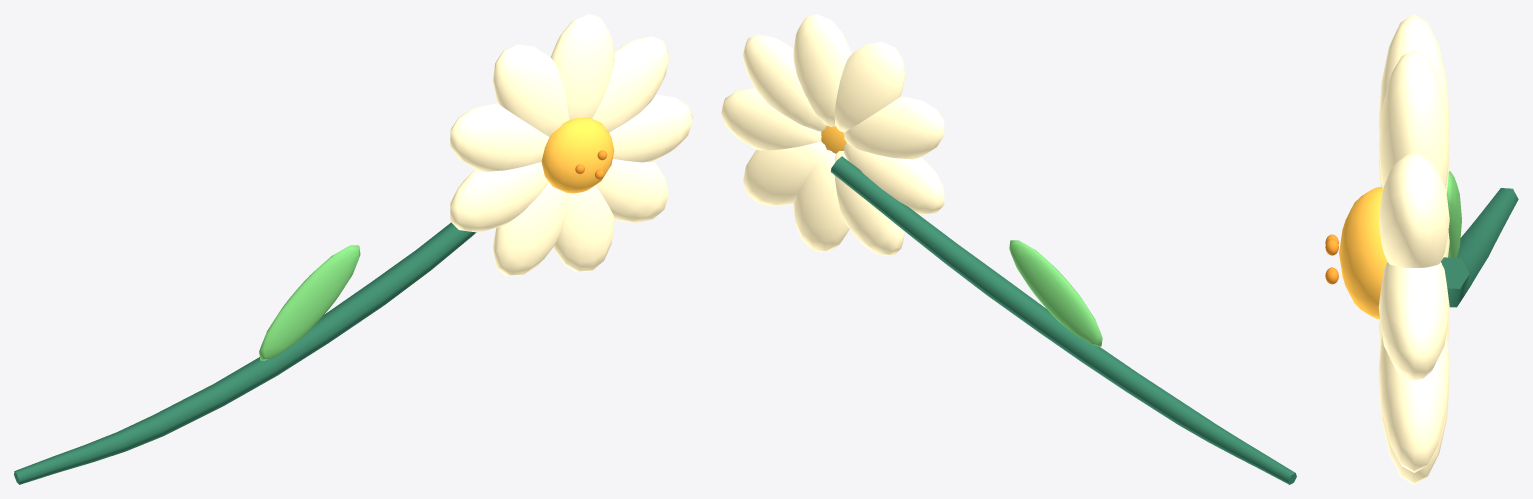
Rendered from daisy_stem.glb.
3 views of the same model, side by side, from view 1: azimuth 30°, elevation 25°; view 2: azimuth 150°, elevation 25°; view 3: azimuth 270°, elevation 25° (orthographic). The views are drawn at different scales.
Visible parts, largest first — view 1: One Little Daisy; view 2: One Little Daisy; view 3: One Little Daisy.
Part boxes in pixels (x1,y1,x2,y2): One Little Daisy: (14,14,692,484); One Little Daisy: (721,14,1296,484); One Little Daisy: (1325,14,1518,484).
Size of the model in its own units: 1 by 0.525 by 0.1549.
